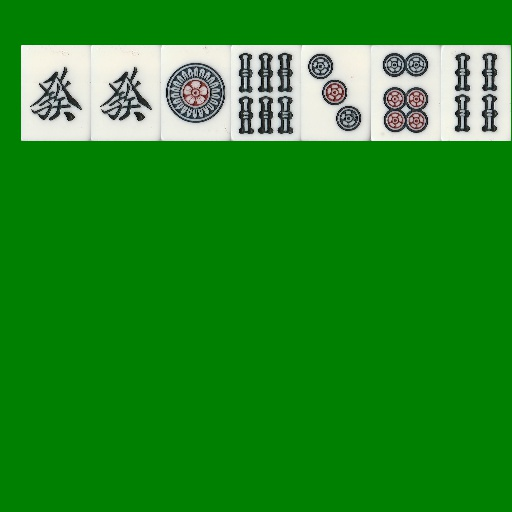1p: (161, 45, 231, 141)
3p: (301, 45, 371, 141)
4s: (441, 45, 511, 141)
6p: (371, 45, 441, 141)
6s: (231, 45, 301, 141)
hatsu: (21, 45, 91, 141), (91, 45, 161, 141)
